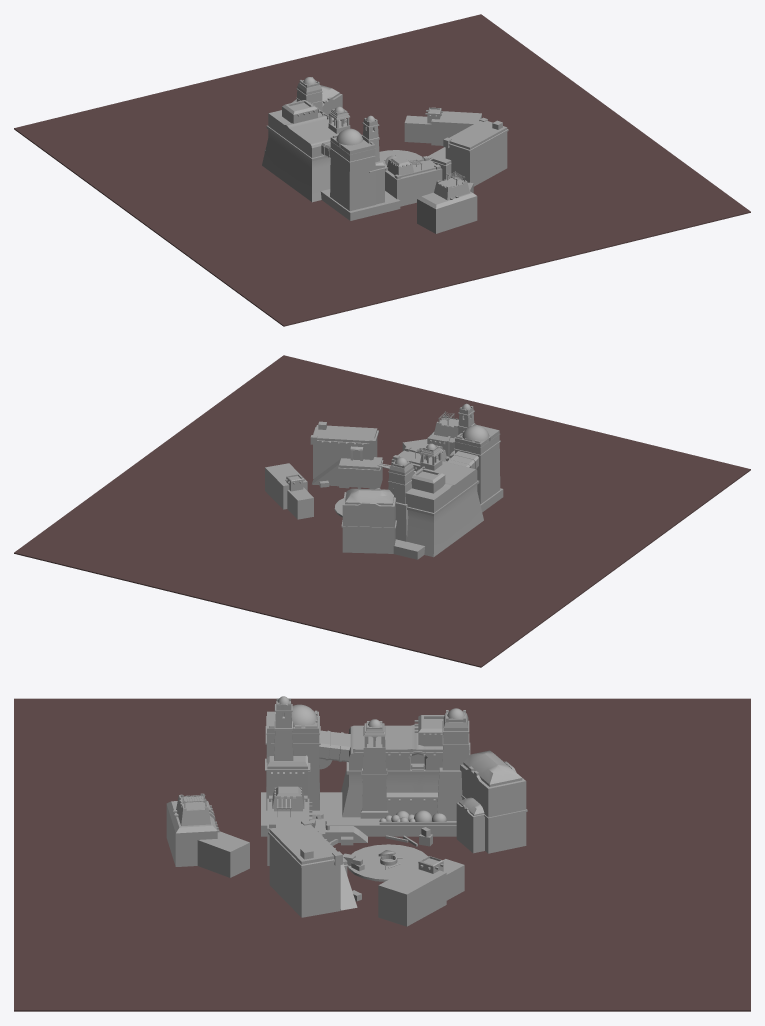
File: RoughBlockout_Mats.fbx
3 views of the same model, one above another, from view 1: azimuth 30°, elevation 25°; view 2: azimuth 150°, elevation 25°; view 3: azimuth 270°, elevation 25° (orthographic). The views are drawn at different scales.
Parts seen in each view (by area): view 1: pCube1, pCube4, pCube12, pCube6, pCube15, pCube11, pCube25, pCube23, pCube26, pCube9, pCube120; view 2: pCube1, pCube4, pCube10, pCube12, pCube6, pCube13, pCube25, pCube3, pCube26, pCube23, pCube9; view 3: pCube1, pCube12, pCube10, pCube4, pCube25, pCube23, pCube6, pCube62, pCube17, pCube15, pCylinder3, pCube149 (+11 smaller).
Boxes of the visible parts, x1,y1,x2,y2 form: pCube1: (14,14,750,326); pCube4: (262,110,338,202); pCube12: (445,120,508,186); pCube6: (329,134,375,211); pCube15: (417,191,477,233); pCube11: (385,160,442,206); pCube25: (431,111,481,145); pCube23: (264,150,400,220); pCube26: (404,115,431,143); pCube9: (282,100,317,123); pCube120: (434,175,469,200); pCube1: (14,355,750,667); pCube4: (405,461,483,557); pCube10: (341,488,396,553); pCube12: (313,425,378,478); pCube6: (454,424,500,504); pCube13: (338,457,383,489); pCube25: (265,463,307,509); pCube3: (388,463,414,503); pCube26: (287,487,313,519); pCube23: (393,488,503,559); pCube9: (411,468,445,493); pCube1: (14,698,750,1011); pCube12: (268,823,340,917); pCube10: (460,750,527,853); pCube4: (341,724,442,817); pCube25: (378,863,446,926); pCube23: (261,792,456,836); pCube6: (265,710,320,810); pCube62: (360,739,388,818); pCube17: (197,831,249,877); pCube15: (166,801,217,866); pCylinder3: (347,844,427,881); pCube149: (456,797,484,853).
Bounding box in the file's own units: 155 × 45.44 × 155.
